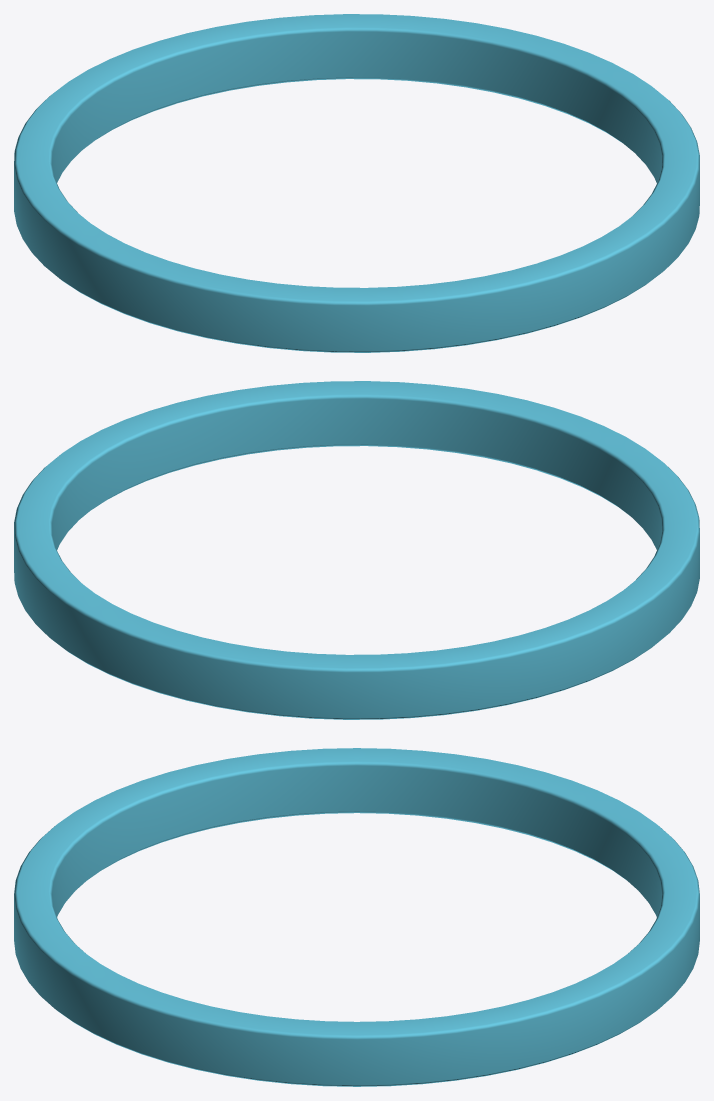
3 views of the same model, one above another, from view 1: azimuth 30°, elevation 25°; view 2: azimuth 150°, elevation 25°; view 3: azimuth 270°, elevation 25° (orthographic).
Parts seen in each view (by area): view 1: seal_body; view 2: seal_body; view 3: seal_body.
Boxes of the visible parts, x1=… form: seal_body: x1=14, y1=14, x2=699, y2=352; seal_body: x1=14, y1=381, x2=699, y2=719; seal_body: x1=14, y1=748, x2=699, y2=1086.
Size of the model in its own units: 0.2286 by 0.0191 by 0.2286.
